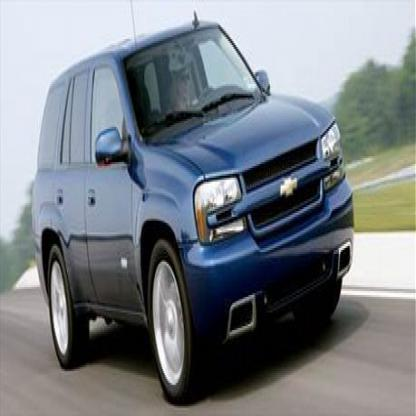Vehicle: (31, 10, 356, 412)
